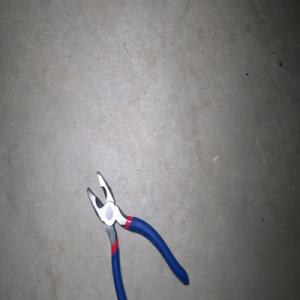Pliers: (86, 170, 189, 300)
